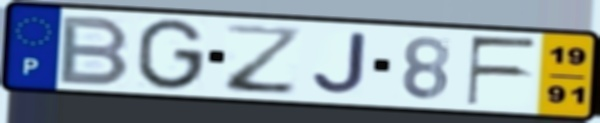8: (399, 35, 453, 101)
B: (54, 14, 134, 88)
F: (464, 35, 540, 108)
G: (133, 17, 209, 93)
J: (309, 31, 369, 97)
Z: (223, 22, 305, 97)
